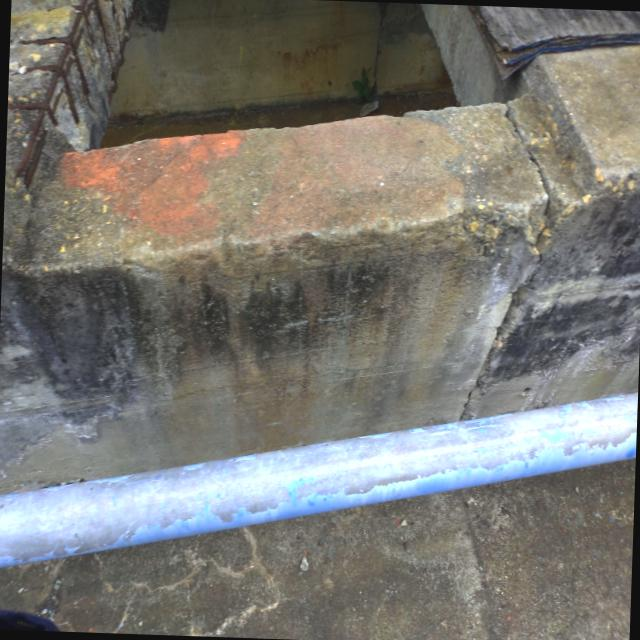gas: (0, 400, 636, 569)
